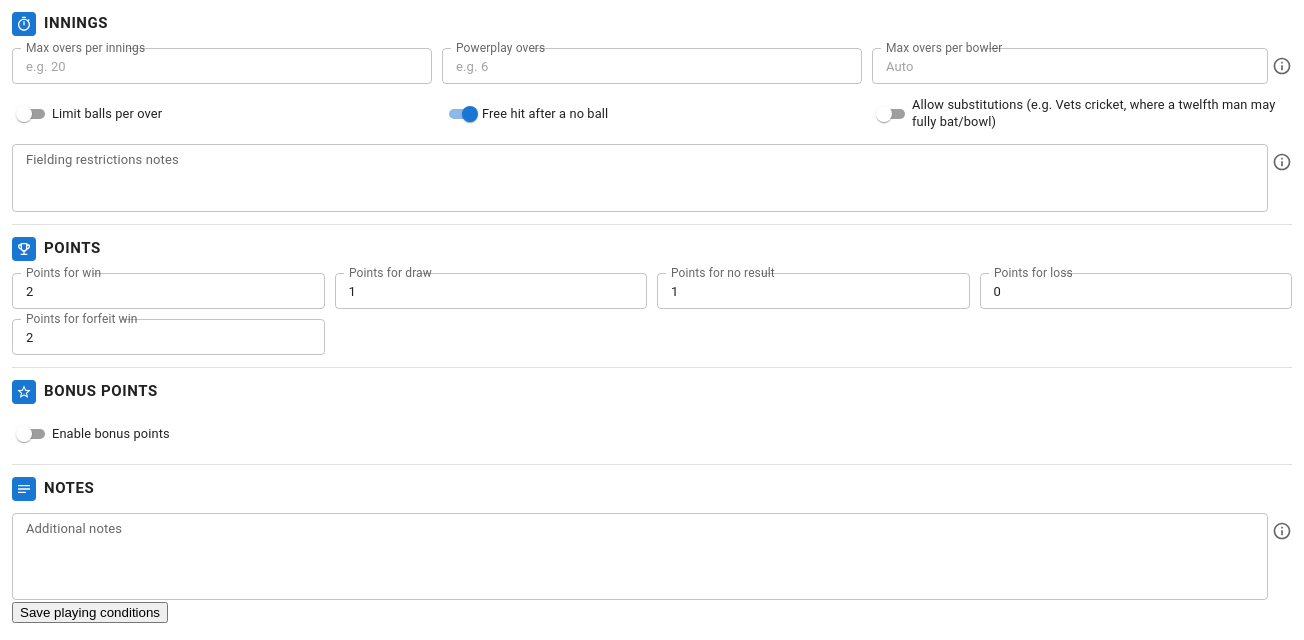
Scenario: PlayingConditionsForm balls per over and free hit › hides the number while the limit is off and shows it, empty, when the switch is turned on
Expected: the field labelled "Maximum balls per over" is not shown
Click the checkbox labelled "Limit balls per over": (89, 114) [16,106,162,122]
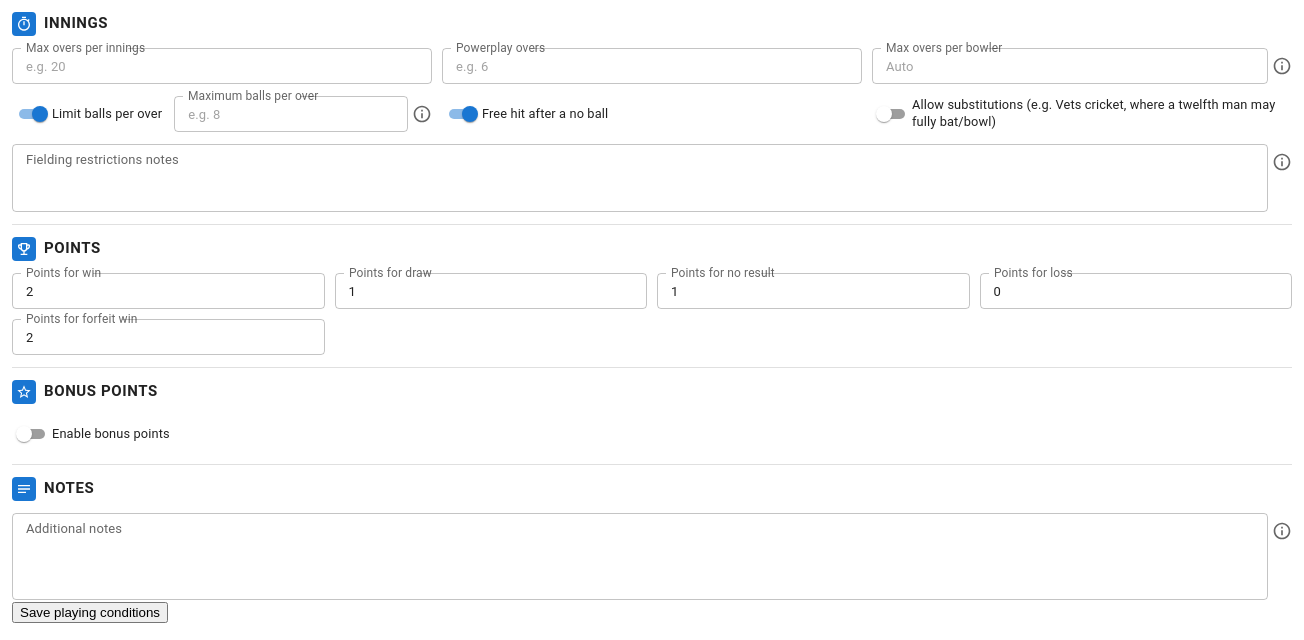
Expected: the number field labelled "Maximum balls per over" is not empty, [174,98,408,130]
